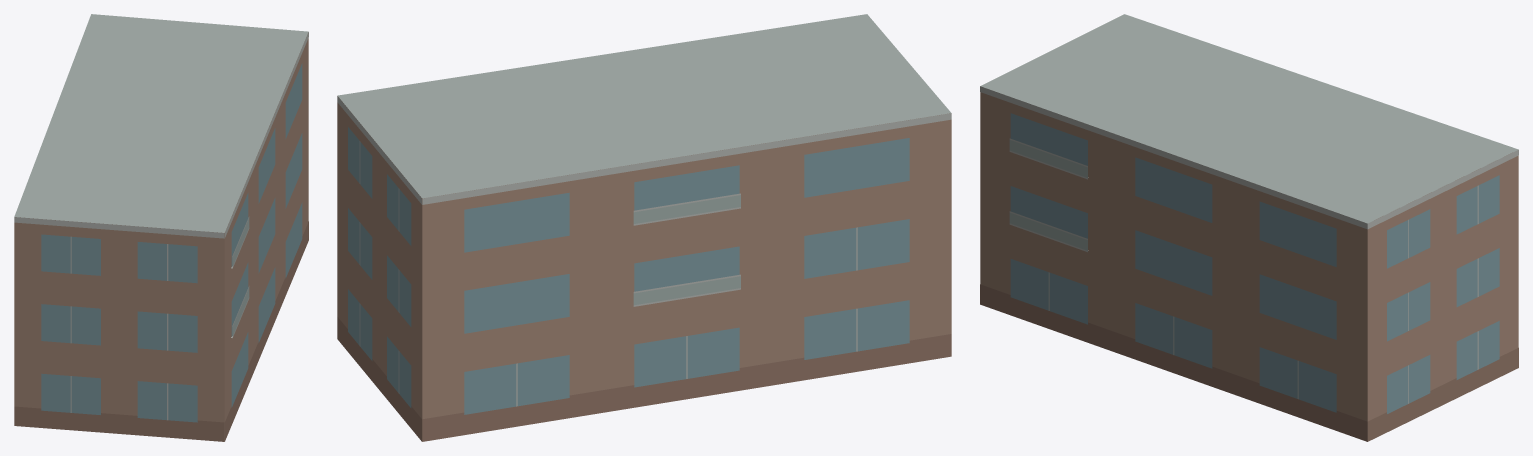
Rendered from survey-upis-32691827.glb.
3 renders of one model, left to right at view 1: azimuth 30°, elevation 25°; view 2: azimuth 150°, elevation 25°; view 3: azimuth 270°, elevation 25°, orthographic. The views are drawn at different scales.
Parts seen in each view (by area): view 1: survey-upis-32691827.tmp; view 2: survey-upis-32691827.tmp; view 3: survey-upis-32691827.tmp.
Part boxes in pixels (<box>): survey-upis-32691827.tmp: <box>14,14,308,441</box>; survey-upis-32691827.tmp: <box>337,14,951,441</box>; survey-upis-32691827.tmp: <box>980,14,1518,441</box>.
Bounding box in the file's own units: 18.74 × 9.1 × 20.35.
